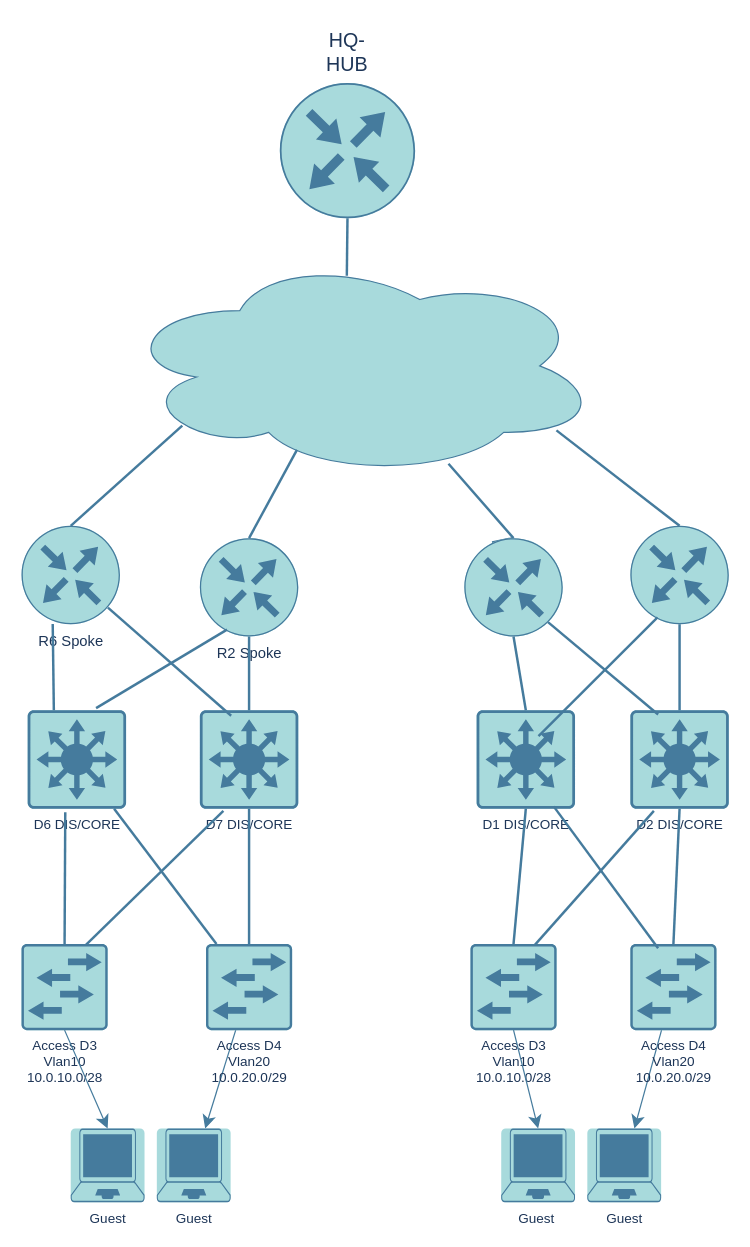
The diagram is 750 pixels wide and 1247 high, and some of its shapes have lost their labels. Each missing label, with the centre of its shape:
Internet(ISP): point 359,365
R1 Spoke: point 513,587
R8 Spoke: point 679,574
